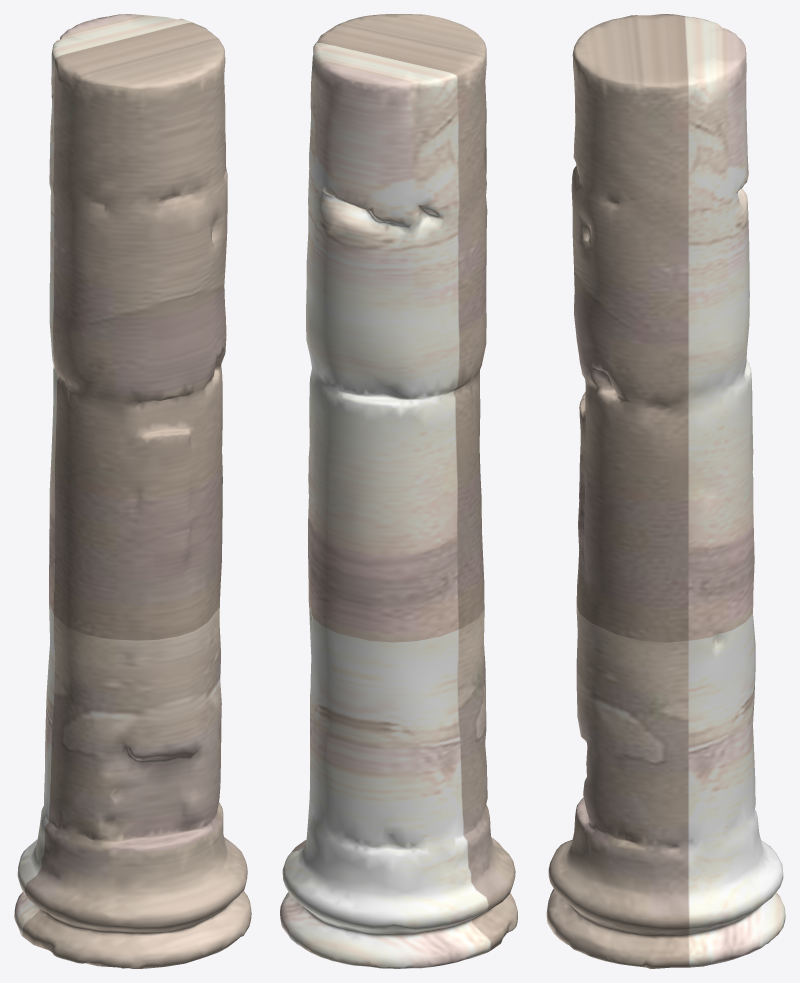
The model's file is columnE.fbx.
3 renders of one model, left to right at view 1: azimuth 30°, elevation 25°; view 2: azimuth 150°, elevation 25°; view 3: azimuth 270°, elevation 25°, orthographic.
Visible parts, largest first — view 1: Aset_stone_carved_M_tj1lebsfa_LOD0; view 2: Aset_stone_carved_M_tj1lebsfa_LOD0; view 3: Aset_stone_carved_M_tj1lebsfa_LOD0.
Part boxes in pixels (<box>): Aset_stone_carved_M_tj1lebsfa_LOD0: <box>14,14,251,968</box>; Aset_stone_carved_M_tj1lebsfa_LOD0: <box>280,14,517,968</box>; Aset_stone_carved_M_tj1lebsfa_LOD0: <box>546,14,785,968</box>.
Size of the model in its own units: 97.71 by 396 by 98.57.
